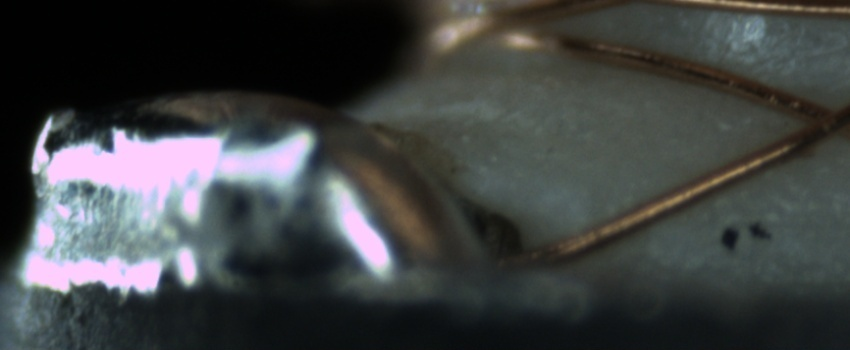CL: (775, 86, 850, 148)
DL: (713, 203, 849, 243)
